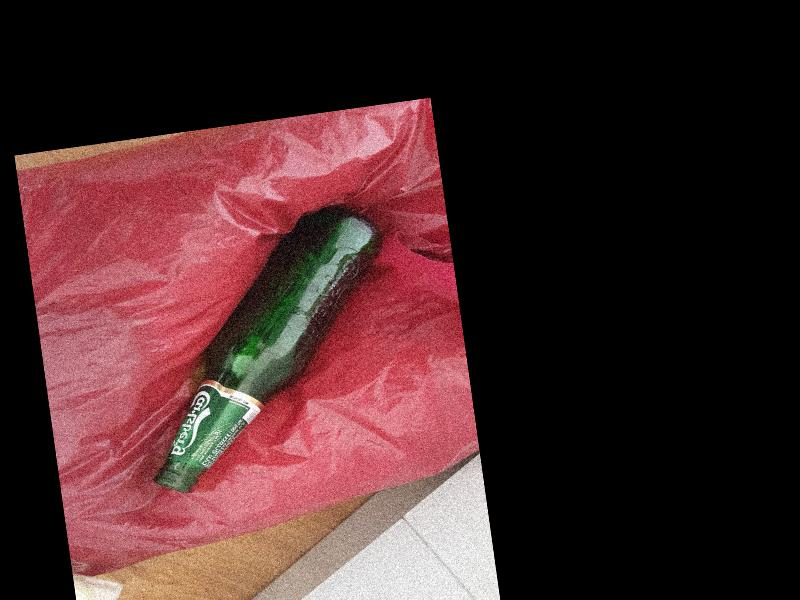Beer: (119, 201, 410, 497)
